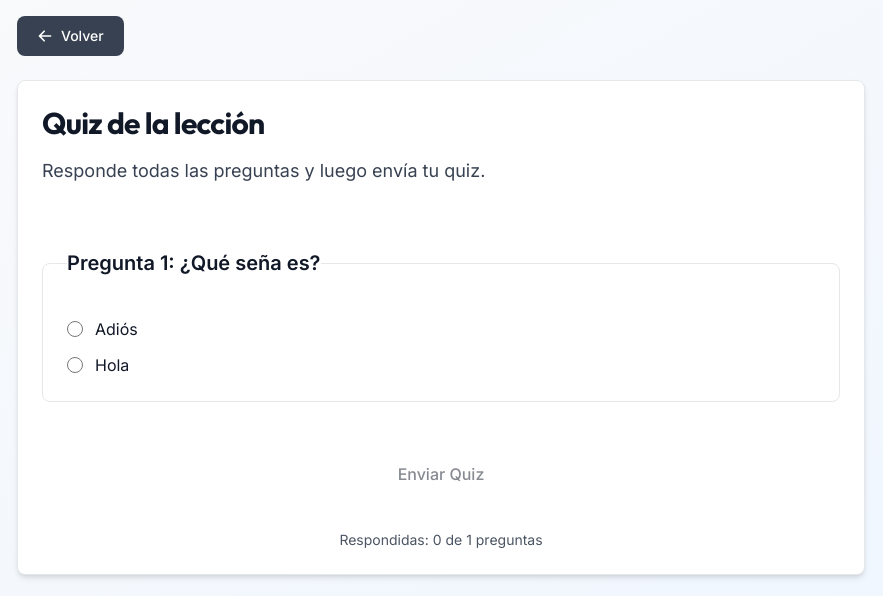
QuizView › loads the student quiz without using isCorrect and submits the chosen option
This screenshot has width=883, height=596.
Check: the text "¿Qué seña es?" is shown, box [180,251,320,275]
Click the radio button labelled "Hola" at (75, 365), box [67,357,83,373]
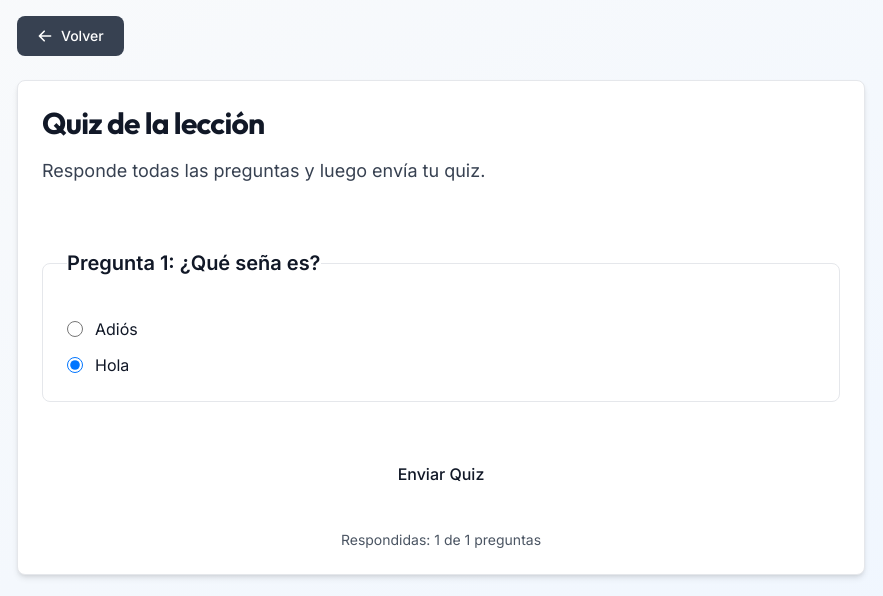
Click the button "Enviar Quiz" at (441, 474), box [378,450,504,498]
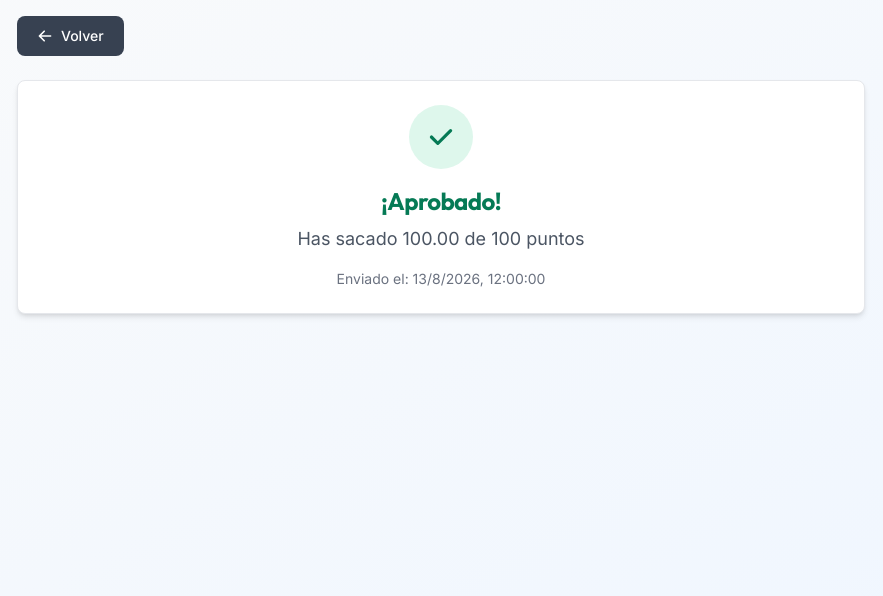
Check: the heading "¡Aprobado!" is shown, box [381,186,501,216]
